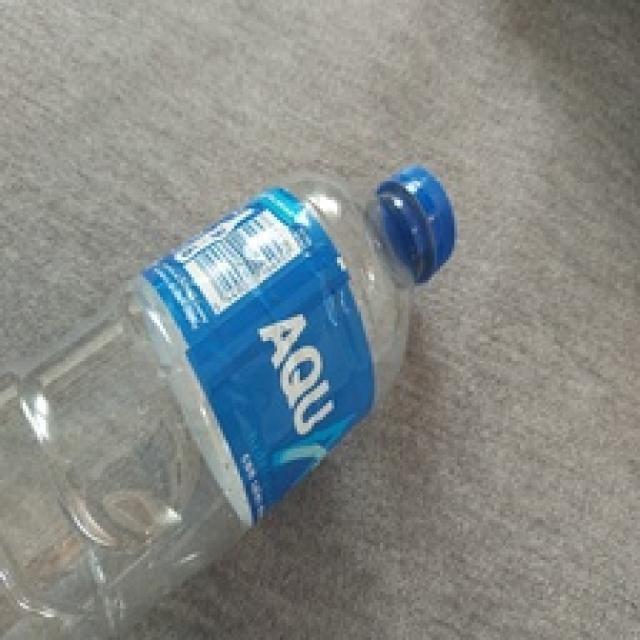Plastic: (0, 165, 454, 640)
